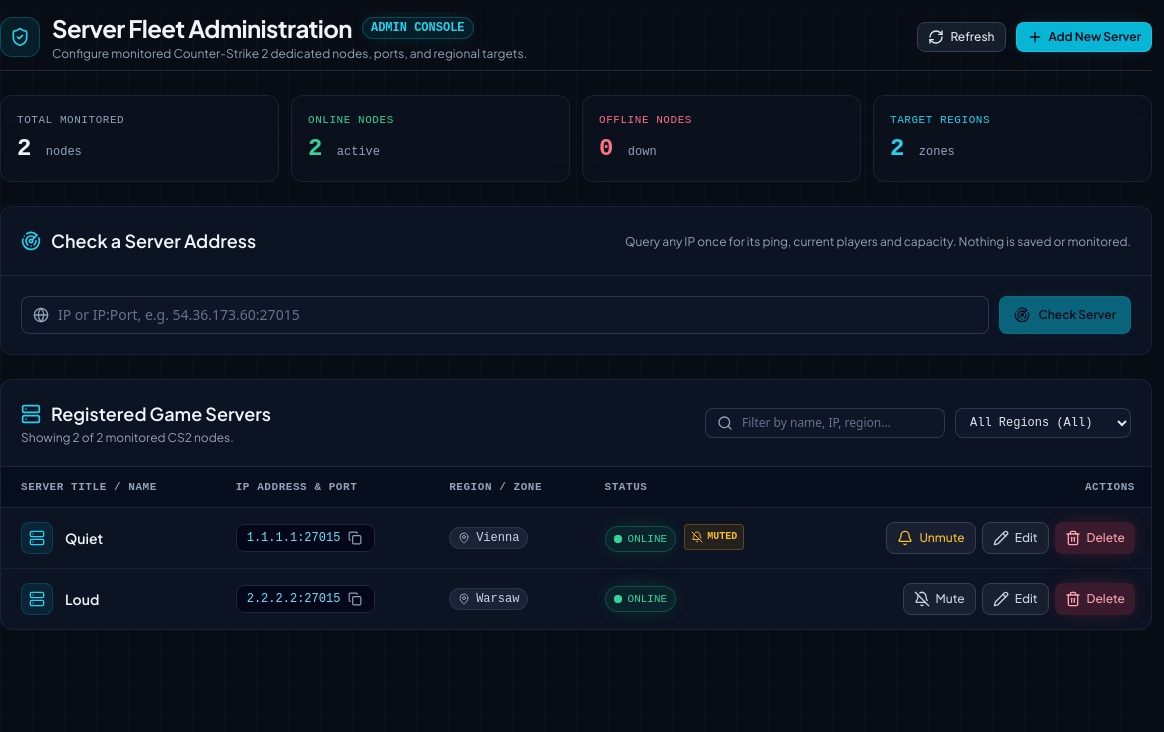
Test: AdminDashboardView › shows the API error for a bad address
The image size is (1164, 732).
Type "nope" into the field named "Server address to check" at (505, 314), box [21,296,990,334]
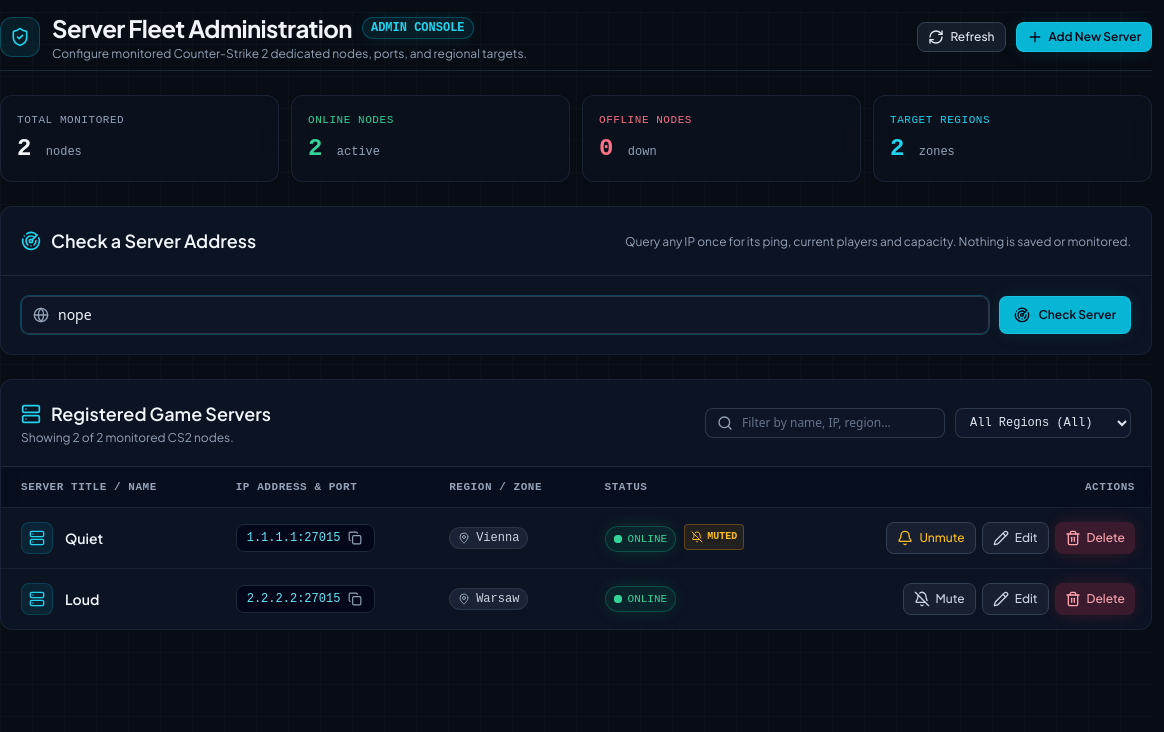
Click the button "Check Server" at (1065, 314), box [1000,296,1131,334]
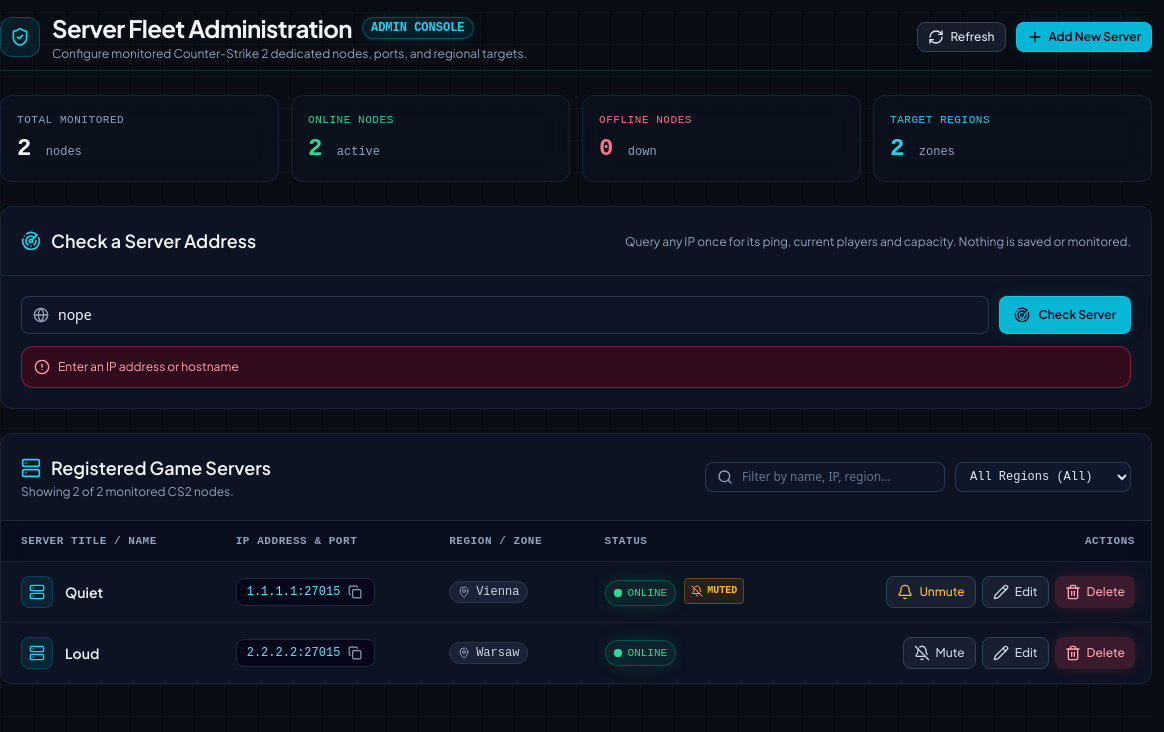
Now the text "Enter an IP address or hostname" is shown, box [58,358,239,374]
